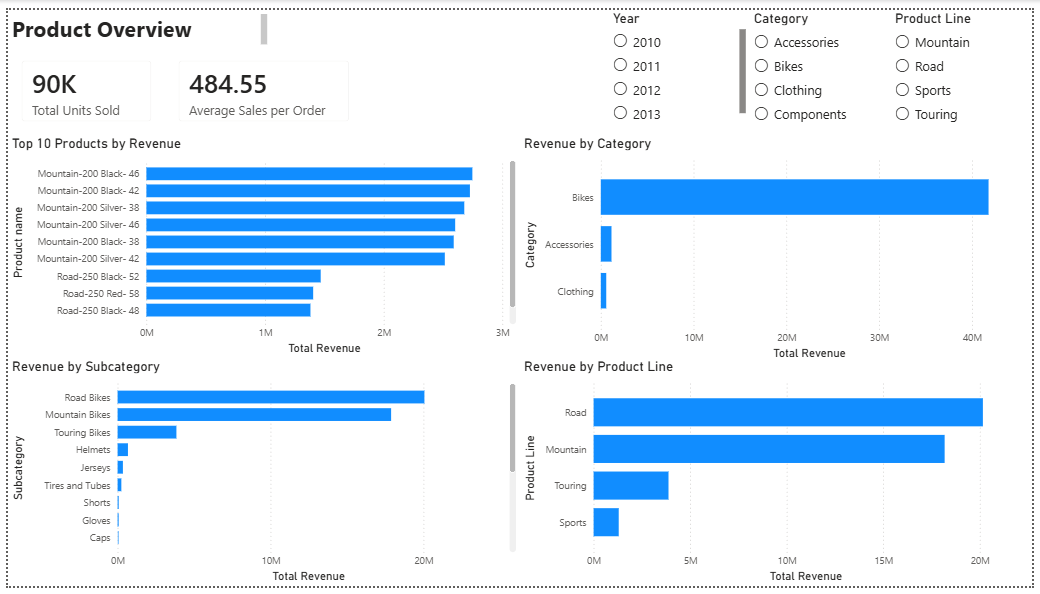

The page's visual inventory and layout, read from the dashboard file:
{"tool":"powerbi","page":{"name":"Product Insights","canvas":[1280,720],"ordinal":2},"visuals":[{"type":"textbox","box":[0,0,321,60.3],"z":0},{"type":"card","fields":{"Values":["gold fact_sales.Units Sold"]},"box":[282.1,144,321,149.8],"z":3},{"type":"card","fields":{"Values":["gold fact_sales.Avg Selling Price"]},"box":[706.1,144,321,149.8],"z":4},{"type":"barChart","title":"Revenue by Product Line","fields":{"Category":["gold dim_products.product_line"],"Y":["gold fact_sales.Total Revenue"]},"box":[479.5,517.4,362.8,188.7],"z":5},{"type":"barChart","title":"Revenue by Category","fields":{"Y":["gold fact_sales.Total Revenue"],"Category":["gold dim_products.category"]},"box":[479.5,315.1,362.8,194.5],"z":6},{"type":"barChart","title":"Revenue by Subcategory","fields":{"Y":["gold fact_sales.Total Revenue"],"Category":["gold dim_products.subcategory"]},"box":[842.3,315.1,437.7,404.6],"z":7},{"type":"tableEx","title":"Top Products by Revenue","fields":{"Values":["gold dim_products.product_name","gold dim_products.product_line","gold fact_sales.Units Sold","gold fact_sales.Total Revenue"]},"box":[0,315.1,442.6,404.6],"z":8},{"type":"slicer","fields":{"Values":["gold dim_date.Month Year"]},"box":[67.1,78.8,309.3,65.2],"z":9},{"type":"slicer","fields":{"Values":["gold dim_products.category"]},"box":[508.7,78.8,261.6,65.2],"z":10},{"type":"slicer","fields":{"Values":["gold dim_products.product_line"]},"box":[929.8,78.8,261.6,65.2],"z":11}]}

Visuals, with their boxes in screenshot pixels (x1, y1, x2, y2), scaled from the page's 1280x720 canvas onto the 1040x594 screenshot:
textbox: 0:0:261:50
card - gold fact_sales.Units Sold: 229:119:490:242
card - gold fact_sales.Avg Selling Price: 574:119:835:242
"Revenue by Product Line" barChart: 390:427:684:583
"Revenue by Category" barChart: 390:260:684:420
"Revenue by Subcategory" barChart: 684:260:1039:593
"Top Products by Revenue" tableEx: 0:260:360:593
slicer - gold dim_date.Month Year: 55:65:306:119
slicer - gold dim_products.category: 413:65:626:119
slicer - gold dim_products.product_line: 755:65:968:119
